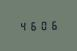four: (18, 20, 27, 31)
six: (28, 20, 37, 31), (48, 19, 57, 30)
zero: (38, 19, 47, 30)
